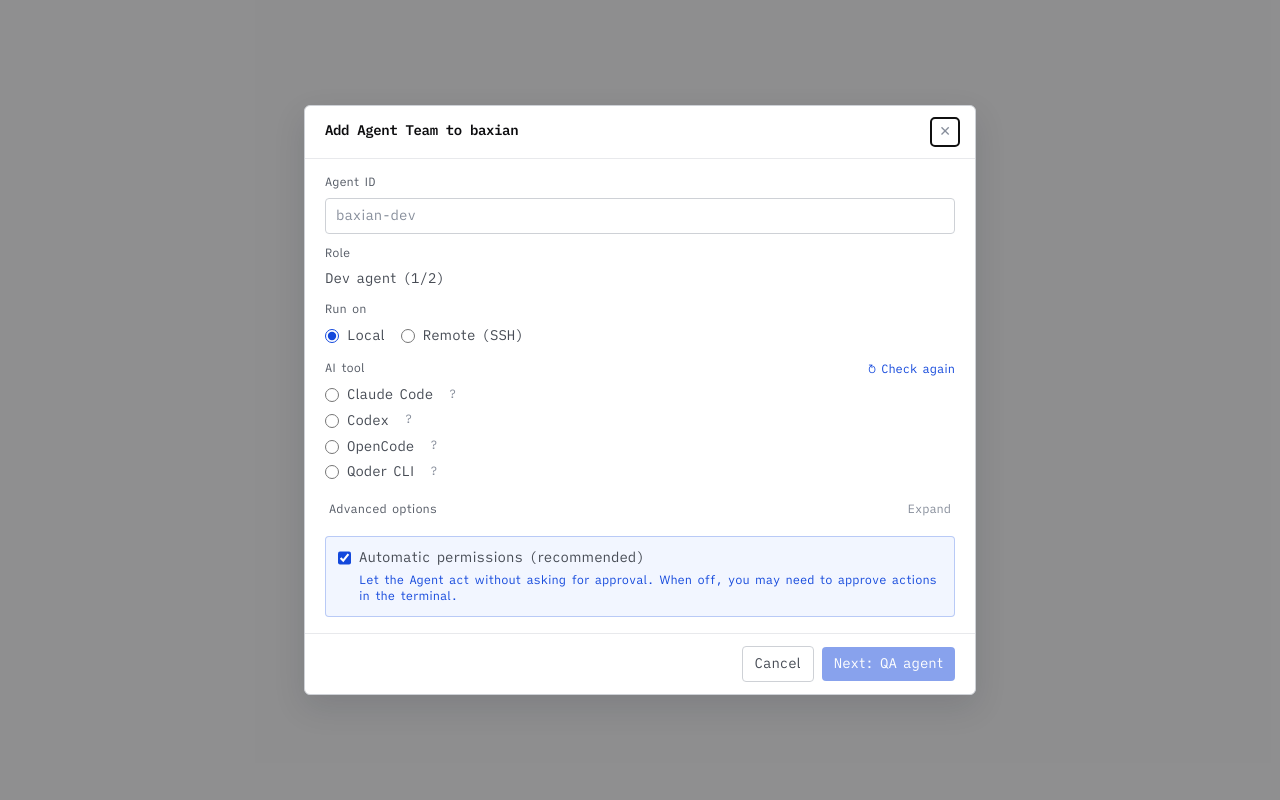
Test: hides Workdir/Model/Additional Dirs behind a collapsed Advanced options toggle
The image size is (1280, 800).
Expected: the field labelled "Working directory (optional)" is not shown
Expected: the field labelled "Model (optional)" is not shown
Click the button "Advanced options Expand" at {"x": 383, "y": 509}, box [325,495,955,524]
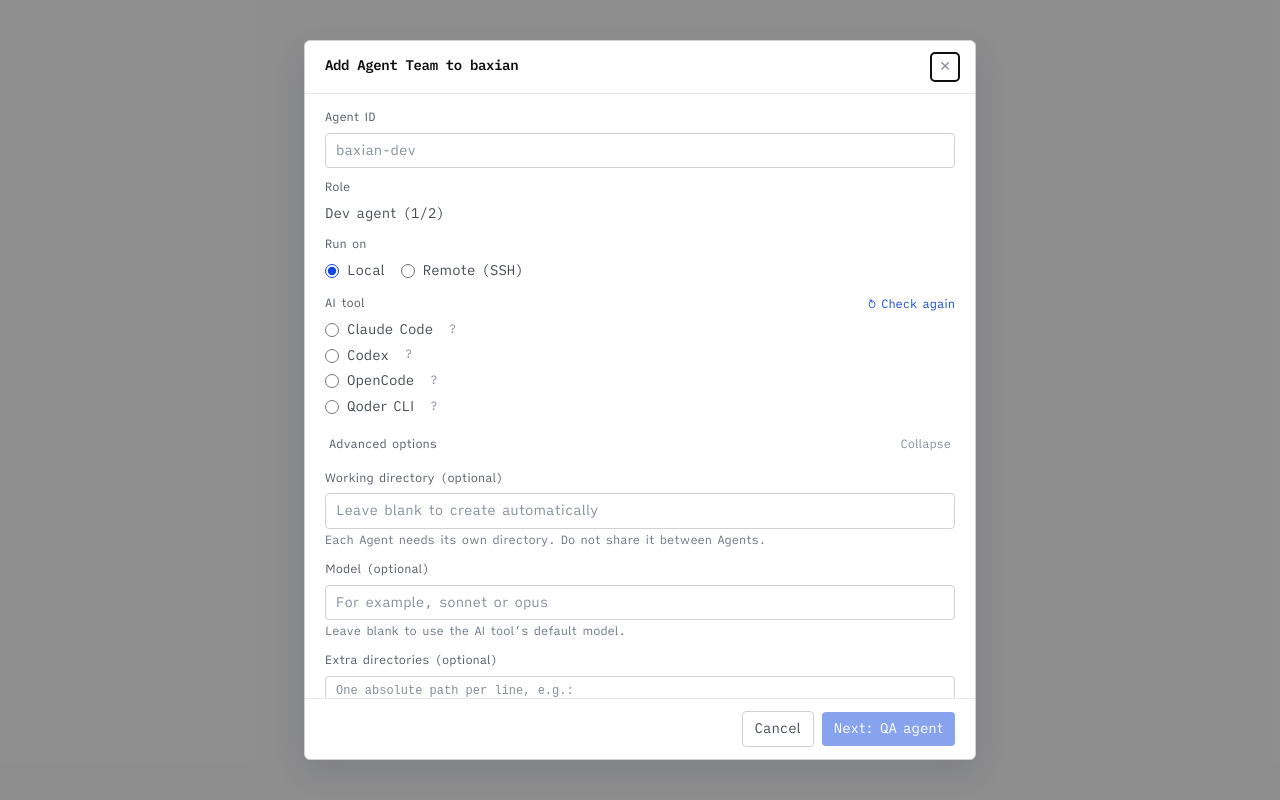
Expected: the element with id "advanced-options" is shown, [325,471,955,698]
Expected: the field labelled "Working directory (optional)" is shown, [325,493,955,529]
Expected: the text "Each Agent needs its own directory. Do not share it between Agents." is shown, [325,533,766,548]
Click the button "Advanced options Collapse" at {"x": 383, "y": 443}, box [325,430,955,459]
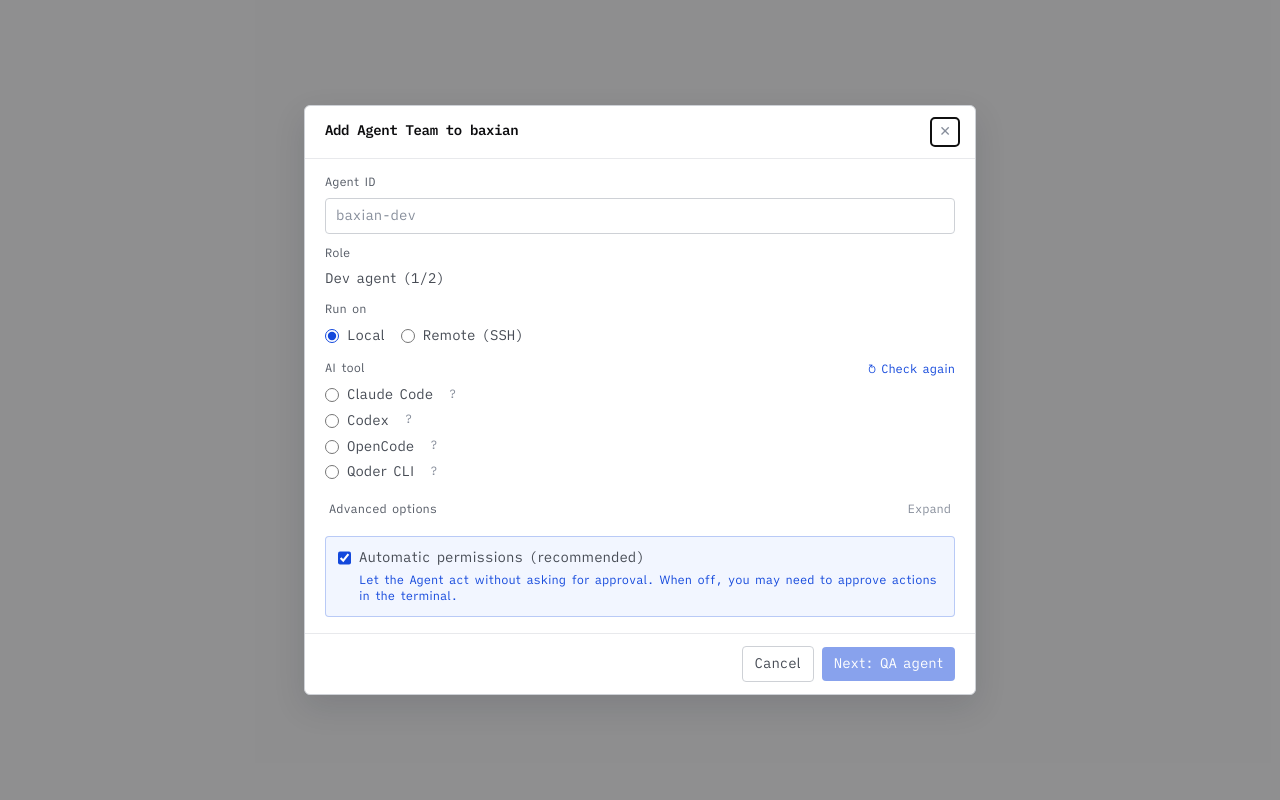
Expected: the label labelled "Working directory (optional)" is gone
